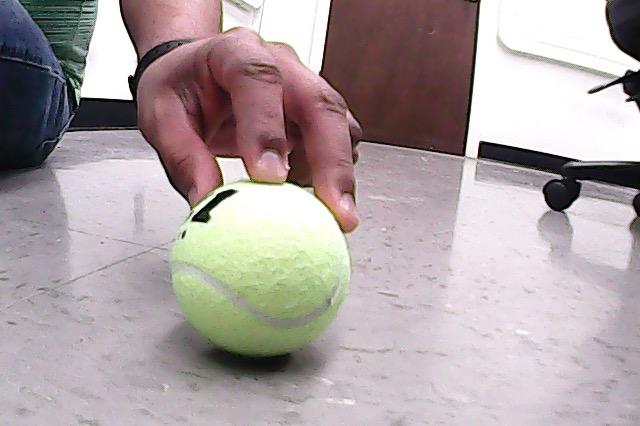ball: (168, 176, 355, 361)
